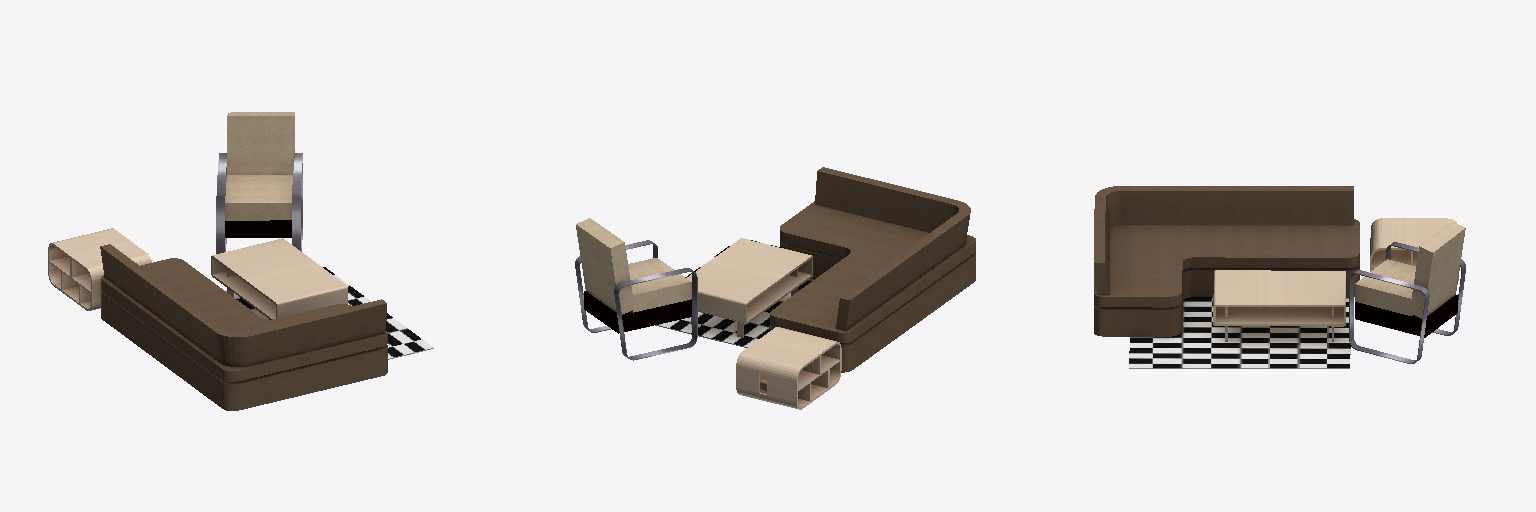
3 views of the same model, side by side, from view 1: azimuth 30°, elevation 25°; view 2: azimuth 150°, elevation 25°; view 3: azimuth 270°, elevation 25° (orthographic).
Parts seen in each view (by area): view 1: Line01; view 2: Line01; view 3: Line01.
Boxes of the visible parts, <box> form: Line01: <box>48,112,433,410</box>; Line01: <box>575,167,975,409</box>; Line01: <box>1094,186,1465,368</box>.
Size of the model in its own units: 2.37 by 1.18 by 3.18.
Materials: 1 (1 with a texture image).